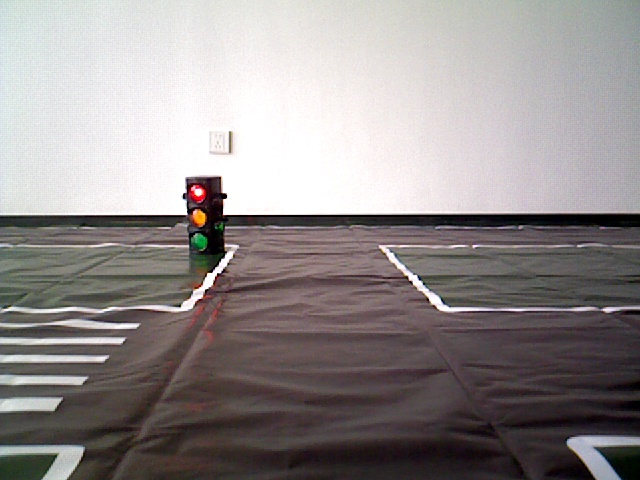red: (188, 176, 219, 253)
